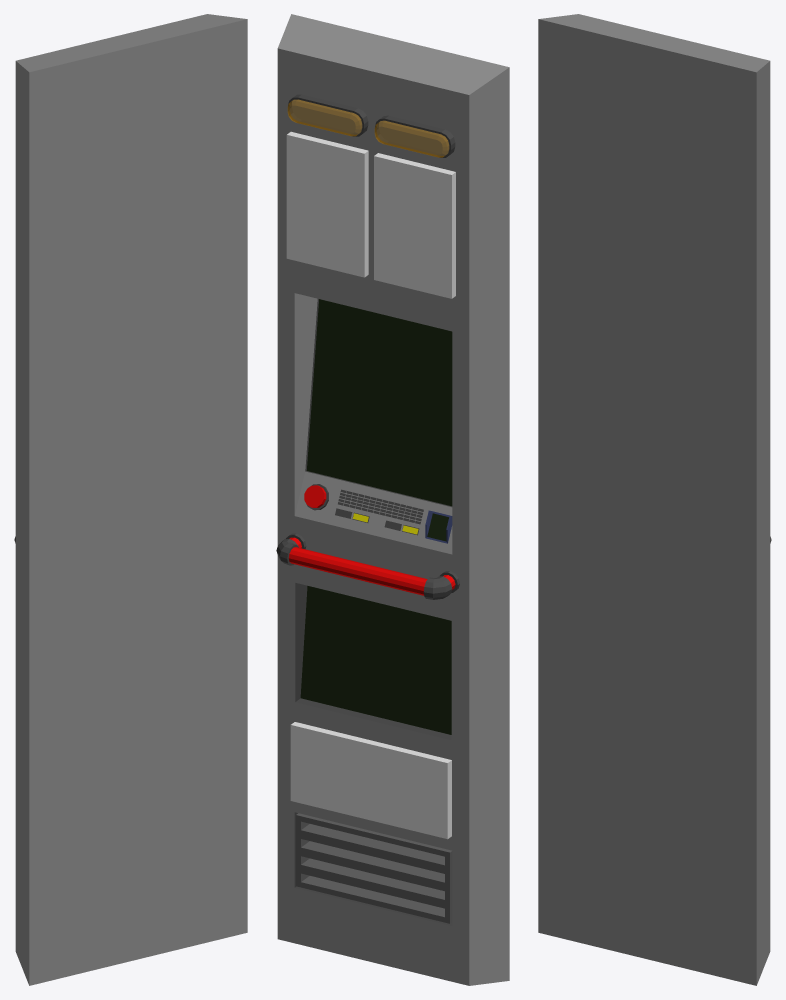
The model's file is ControlPanel.fbx.
3 renders of one model, left to right at view 1: azimuth 30°, elevation 25°; view 2: azimuth 150°, elevation 25°; view 3: azimuth 330°, elevation 25°, orthographic.
Visible parts, largest first — view 1: Control_Panel; view 2: Control_Panel, Control_Panel_Screen1, Control_Panel_Screen3, Control_Panel.003, Control_Panel.004, Control_Panel.001, Control_Panel.002; view 3: Control_Panel.
Boxes of the visible parts, bbox=[...] form: Control_Panel: bbox=[14, 14, 247, 985]; Control_Panel: bbox=[276, 14, 509, 985]; Control_Panel_Screen1: bbox=[306, 299, 452, 506]; Control_Panel_Screen3: bbox=[300, 586, 451, 734]; Control_Panel.003: bbox=[286, 131, 368, 277]; Control_Panel.004: bbox=[374, 153, 455, 298]; Control_Panel.001: bbox=[287, 94, 368, 136]; Control_Panel.002: bbox=[374, 115, 455, 157]; Control_Panel: bbox=[538, 14, 771, 985].
Bounding box in the file's own units: 50 × 200 × 17.84.
